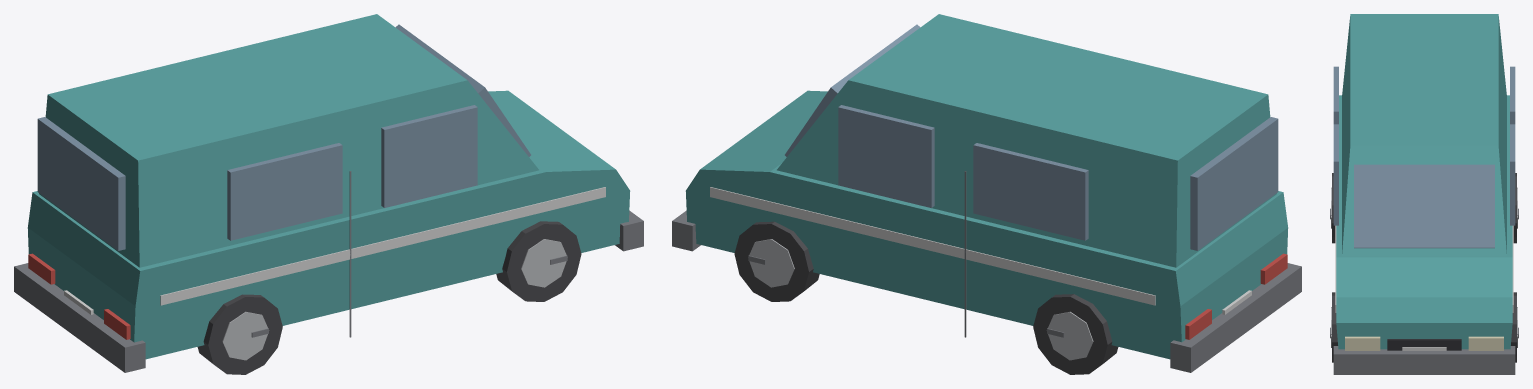
The model's file is Arac_Van_Teal.glb.
3 renders of one model, left to right at view 1: azimuth 30°, elevation 25°; view 2: azimuth 150°, elevation 25°; view 3: azimuth 270°, elevation 25°, orthographic. The views are drawn at different scales.
Parts seen in each view (by area): view 1: Arac_Van_Teal, Wheel_0.010, Wheel_2.010; view 2: Arac_Van_Teal, Wheel_3.010, Wheel_1.010; view 3: Arac_Van_Teal, Wheel_0.010, Wheel_1.010, Wheel_2.010, Wheel_3.010.
Part boxes in pixels (box(x1,y1,x2,y2)): Arac_Van_Teal: box(14, 14, 643, 372); Wheel_0.010: box(496, 221, 581, 301); Wheel_2.010: box(197, 294, 282, 374); Arac_Van_Teal: box(672, 14, 1301, 372); Wheel_3.010: box(1033, 294, 1118, 374); Wheel_1.010: box(734, 221, 819, 301); Arac_Van_Teal: box(1333, 14, 1515, 374); Wheel_0.010: box(1330, 292, 1337, 362); Wheel_1.010: box(1511, 292, 1518, 362); Wheel_2.010: box(1330, 173, 1335, 243); Wheel_3.010: box(1513, 173, 1518, 243).
Size of the model in its own units: 5.56 by 2.35 by 2.14.
